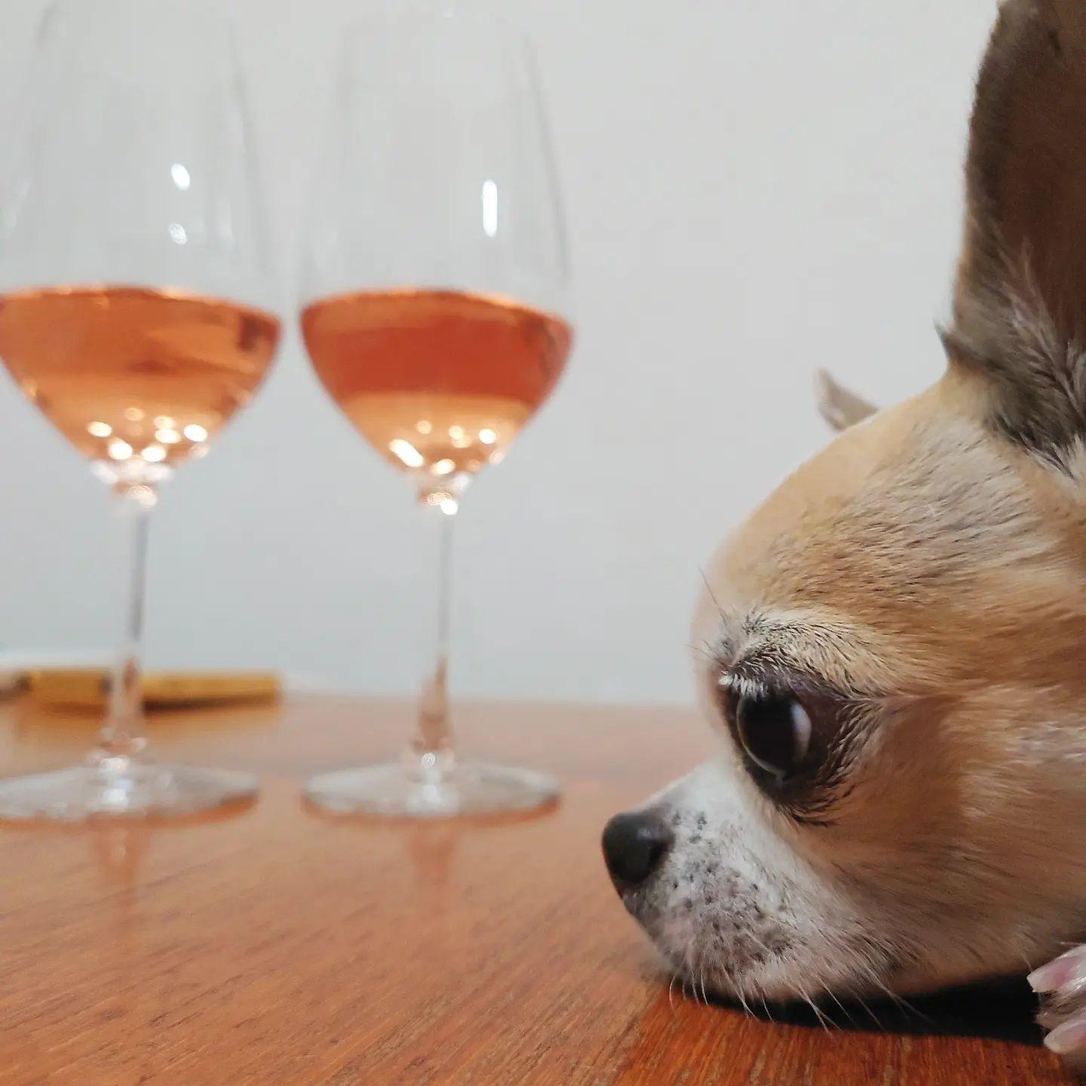glass-wine: (271, 5, 594, 832), (0, 4, 301, 824)
